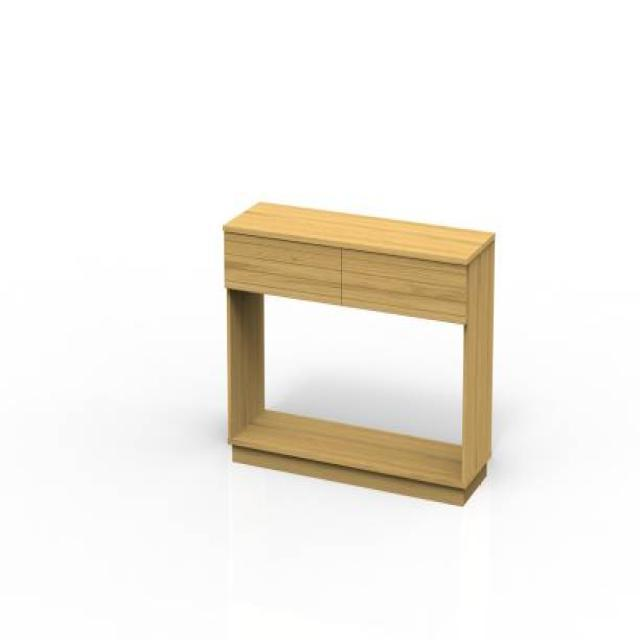table: (222, 198, 496, 506)
